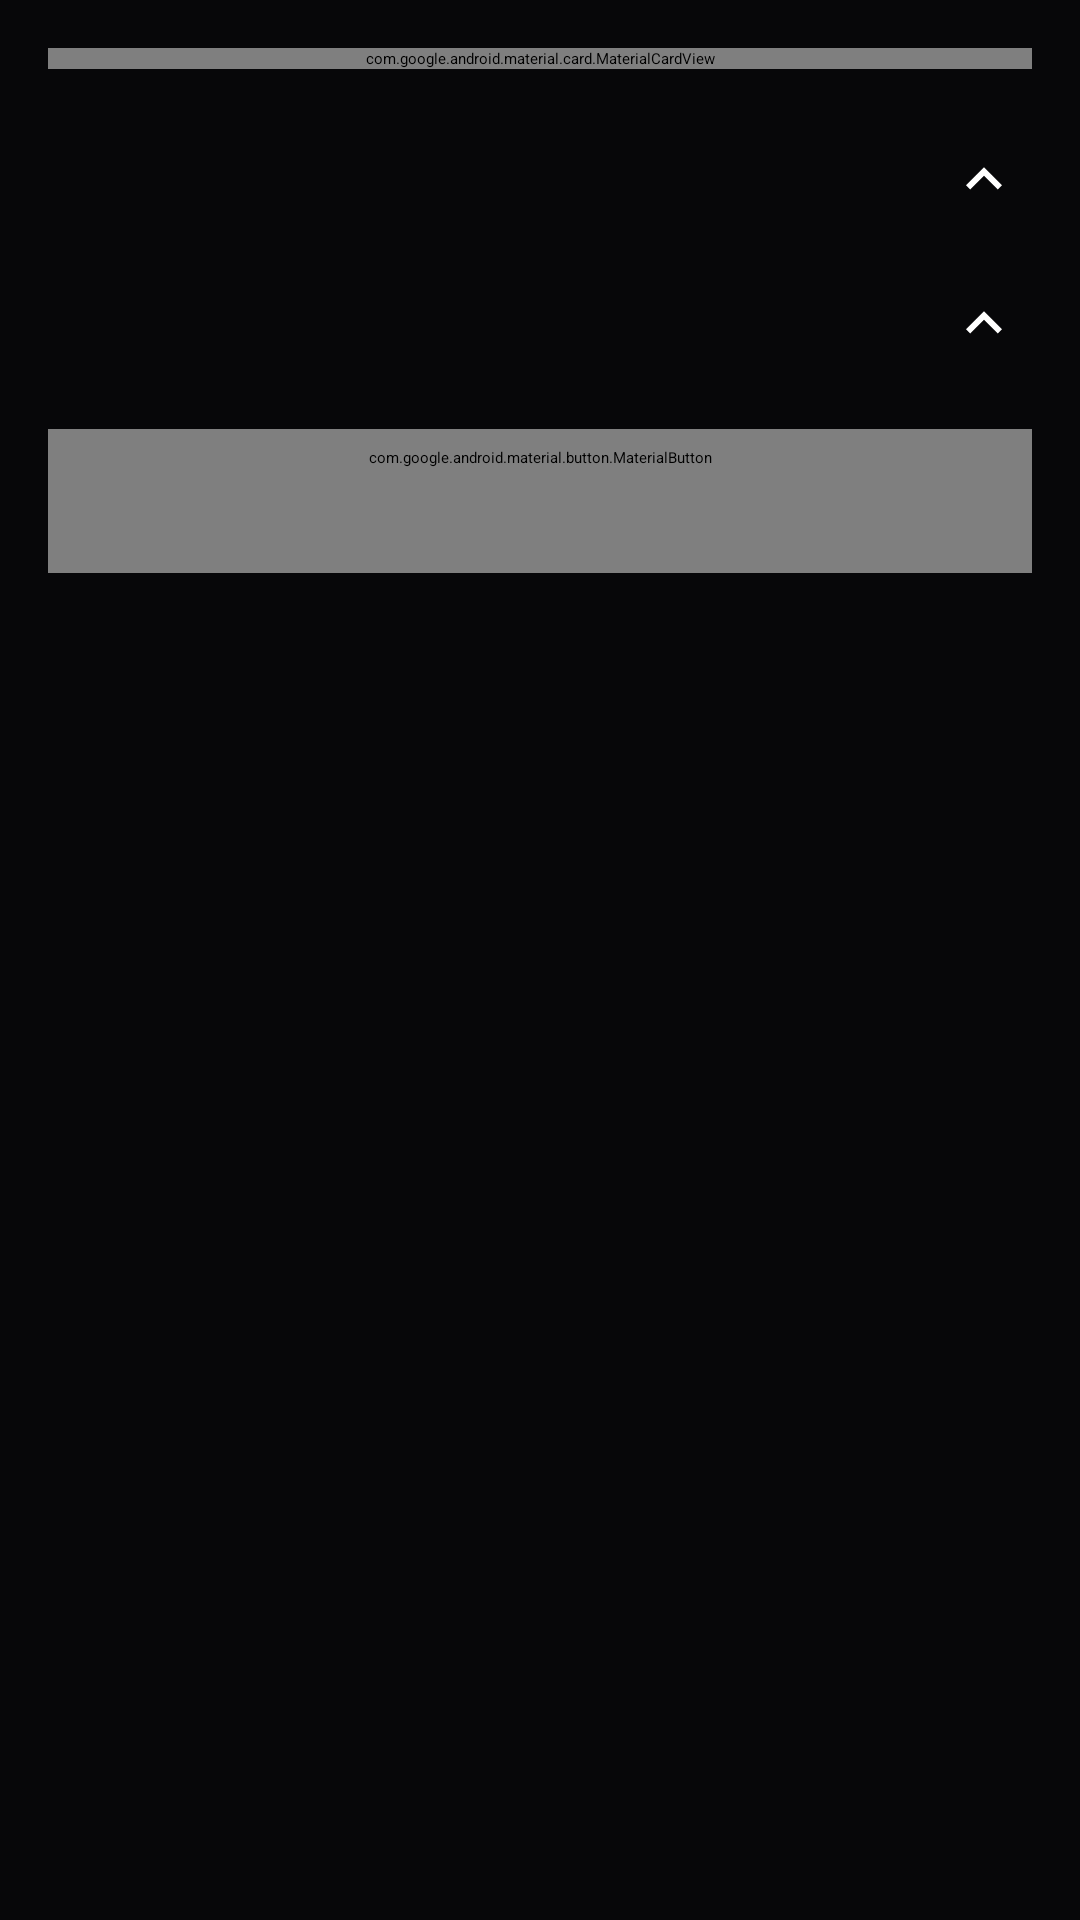

Where icons sit on this 1080px x 1920px app screen, as [left=x1, top=y1, right=x2, bottom=y2]:
Collapse section: [left=966, top=167, right=1002, bottom=190], [left=966, top=311, right=1002, bottom=334]
